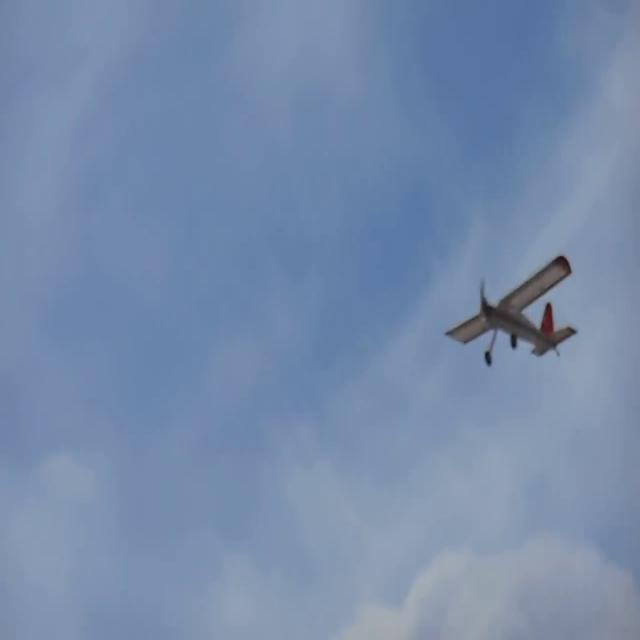iha: (446, 282, 578, 338)
